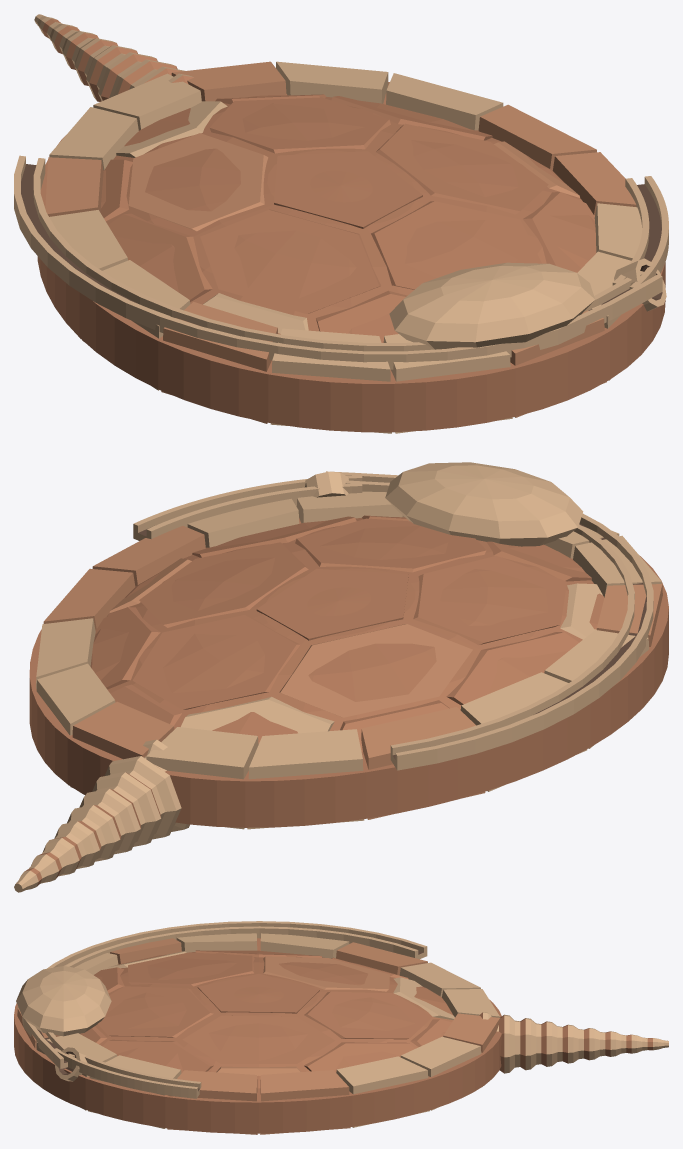
File: trochocystites.glb
The picture shows the model from 3 angles, top to bottom: view 1: azimuth 30°, elevation 25°; view 2: azimuth 150°, elevation 25°; view 3: azimuth 270°, elevation 25°; orthographic projection. The views are drawn at different scales.
Parts seen in each view (by area): view 1: trochocystites-original-organism; view 2: trochocystites-original-organism; view 3: trochocystites-original-organism.
Part boxes in pixels (box(x1,y1,x2,y2)): trochocystites-original-organism: box(14, 14, 668, 433); trochocystites-original-organism: box(14, 462, 668, 892); trochocystites-original-organism: box(14, 921, 668, 1134).
Size of the model in its own units: 0.0208 by 0.0056 by 0.0342.
